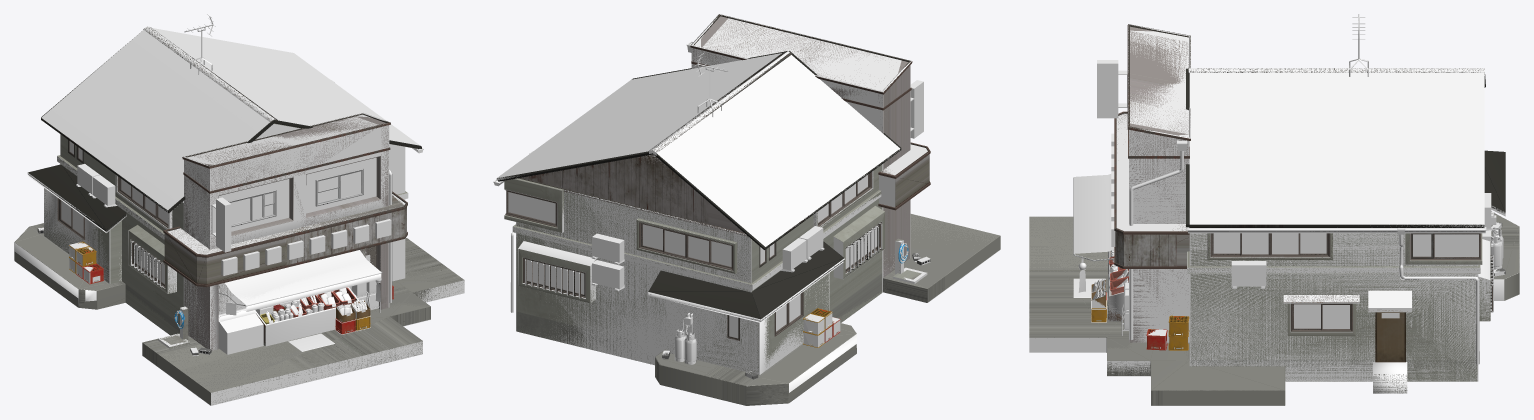
The model's file is objects_un_dlc1_t10shop01.gltf.
3 renders of one model, left to right at view 1: azimuth 30°, elevation 25°; view 2: azimuth 150°, elevation 25°; view 3: azimuth 270°, elevation 25°, orthographic. The views are drawn at different scales.
Parts seen in each view (by area): view 1: um_objects_un_dlc1_t10shop01_model_lod0Shape:shadow_mat, um_objects_un_dlc1_t10shop01_model_lod0Shape:objects_un_dlc1 (×7), um_objects_un_dlc1_t10shop01_model_lod1Shape:objects_un_dlc1 (×6), um_objects_un_dlc1_t10shop01_model_lod0Shape:dlc1_t10shop01_ (×2), um_objects_un_dlc1_t10shop01_model_lod2Shape:objects_un_dlc1 (×3), um_objects_un_dlc1_t10shop01_model_lod1Shape:dlc1_t10shop01_, signboard02_shape:dlc1_t10shop01_obj01_01, signboard01_shape:dlc1_t10shop01_obj01_01, doormat01_shape:dlc1_t10shop01_obj01_01, ctmachine_shape:dlc1_t10shop01_obj01_01; view 2: um_objects_un_dlc1_t10shop01_model_lod0Shape:shadow_mat, um_objects_un_dlc1_t10shop01_model_lod0Shape:objects_un_dlc1 (×8), um_objects_un_dlc1_t10shop01_model_lod1Shape:objects_un_dlc1 (×5), um_objects_un_dlc1_t10shop01_model_lod0Shape:dlc1_t10shop01_, um_objects_un_dlc1_t10shop01_model_lod2Shape:objects_un_dlc1, signboard01_shape:dlc1_t10shop01_obj01_01; view 3: um_objects_un_dlc1_t10shop01_model_lod0Shape:shadow_mat, um_objects_un_dlc1_t10shop01_model_lod0Shape:objects_un_dlc1 (×8), um_objects_un_dlc1_t10shop01_model_lod1Shape:objects_un_dlc1 (×6), um_objects_un_dlc1_t10shop01_model_lod0Shape:dlc1_t10shop01_ (×2), um_objects_un_dlc1_t10shop01_model_lod1Shape:dlc1_t10shop01_, um_objects_un_dlc1_t10shop01_model_lod2Shape:objects_un_dlc1, signboard01_shape:dlc1_t10shop01_obj01_01.
Boxes of the visible parts, left/top/right/bottom form: um_objects_un_dlc1_t10shop01_model_lod0Shape:shadow_mat: left=14, top=24, right=464, bottom=405; um_objects_un_dlc1_t10shop01_model_lod0Shape:objects_un_dlc1 (×7): left=14, top=117, right=460, bottom=392; um_objects_un_dlc1_t10shop01_model_lod1Shape:objects_un_dlc1 (×6): left=14, top=16, right=464, bottom=405; um_objects_un_dlc1_t10shop01_model_lod0Shape:dlc1_t10shop01_ (×2): left=61, top=141, right=381, bottom=315; um_objects_un_dlc1_t10shop01_model_lod2Shape:objects_un_dlc1 (×3): left=41, top=27, right=420, bottom=348; um_objects_un_dlc1_t10shop01_model_lod1Shape:dlc1_t10shop01_: left=226, top=252, right=381, bottom=314; signboard02_shape:dlc1_t10shop01_obj01_01: left=221, top=219, right=391, bottom=276; signboard01_shape:dlc1_t10shop01_obj01_01: left=211, top=197, right=231, bottom=252; doormat01_shape:dlc1_t10shop01_obj01_01: left=288, top=333, right=334, bottom=351; ctmachine_shape:dlc1_t10shop01_obj01_01: left=351, top=281, right=380, bottom=312; um_objects_un_dlc1_t10shop01_model_lod0Shape:shadow_mat: left=493, top=14, right=1000, bottom=392; um_objects_un_dlc1_t10shop01_model_lod0Shape:objects_un_dlc1 (×8): left=497, top=16, right=999, bottom=405; um_objects_un_dlc1_t10shop01_model_lod1Shape:objects_un_dlc1 (×5): left=495, top=43, right=1000, bottom=405; um_objects_un_dlc1_t10shop01_model_lod0Shape:dlc1_t10shop01_: left=508, top=175, right=877, bottom=338; um_objects_un_dlc1_t10shop01_model_lod2Shape:objects_un_dlc1: left=498, top=14, right=927, bottom=296; signboard01_shape:dlc1_t10shop01_obj01_01: left=910, top=80, right=923, bottom=138; um_objects_un_dlc1_t10shop01_model_lod0Shape:shadow_mat: left=1029, top=14, right=1517, bottom=405; um_objects_un_dlc1_t10shop01_model_lod0Shape:objects_un_dlc1 (×8): left=1030, top=17, right=1519, bottom=390; um_objects_un_dlc1_t10shop01_model_lod1Shape:objects_un_dlc1 (×6): left=1029, top=68, right=1519, bottom=405; um_objects_un_dlc1_t10shop01_model_lod0Shape:dlc1_t10shop01_ (×2): left=1073, top=174, right=1478, bottom=328; um_objects_un_dlc1_t10shop01_model_lod1Shape:dlc1_t10shop01_: left=1073, top=175, right=1111, bottom=292; um_objects_un_dlc1_t10shop01_model_lod2Shape:objects_un_dlc1: left=1116, top=24, right=1492, bottom=310; signboard01_shape:dlc1_t10shop01_obj01_01: left=1097, top=60, right=1127, bottom=118.
Size of what is drawn, in the model's own units: 13.61 by 10.84 by 16.21.
Materials: 15 (7 with a texture image).
